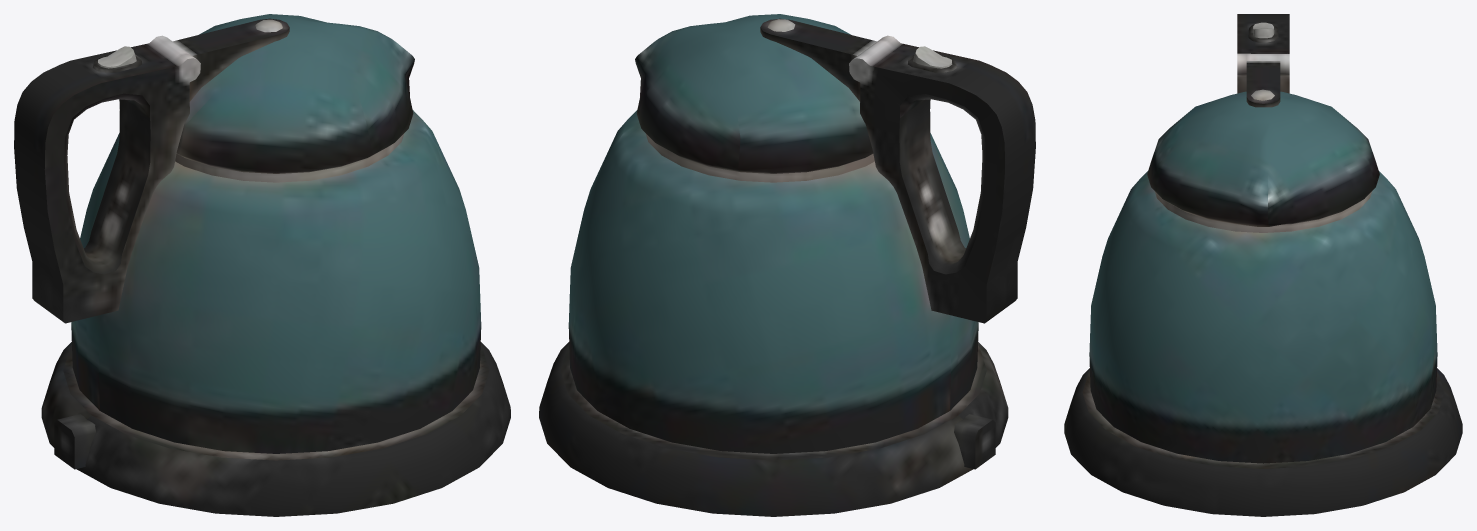
File: kettle.glb
3 renders of one model, left to right at view 1: azimuth 30°, elevation 25°; view 2: azimuth 150°, elevation 25°; view 3: azimuth 270°, elevation 25°, orthographic. The views are drawn at different scales.
Parts seen in each view (by area): view 1: Boiler_A; view 2: Boiler_A; view 3: Boiler_A.
Boxes of the visible parts, x1,y1,x2,y2 form: Boiler_A: [14, 14, 510, 516]; Boiler_A: [539, 14, 1035, 516]; Boiler_A: [1064, 14, 1462, 516].
Size of the model in its own units: 0.3097 by 0.2663 by 0.2796.
Materials: 1 (1 with a texture image).
